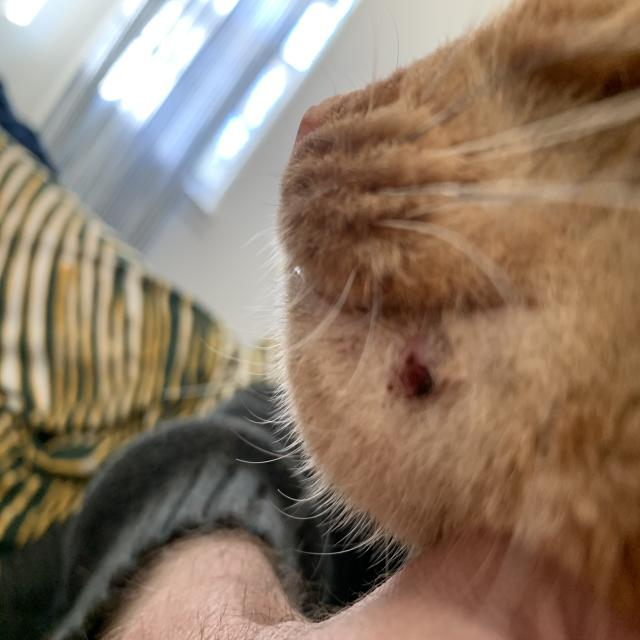cat-dermatitis: (389, 349, 441, 406)
